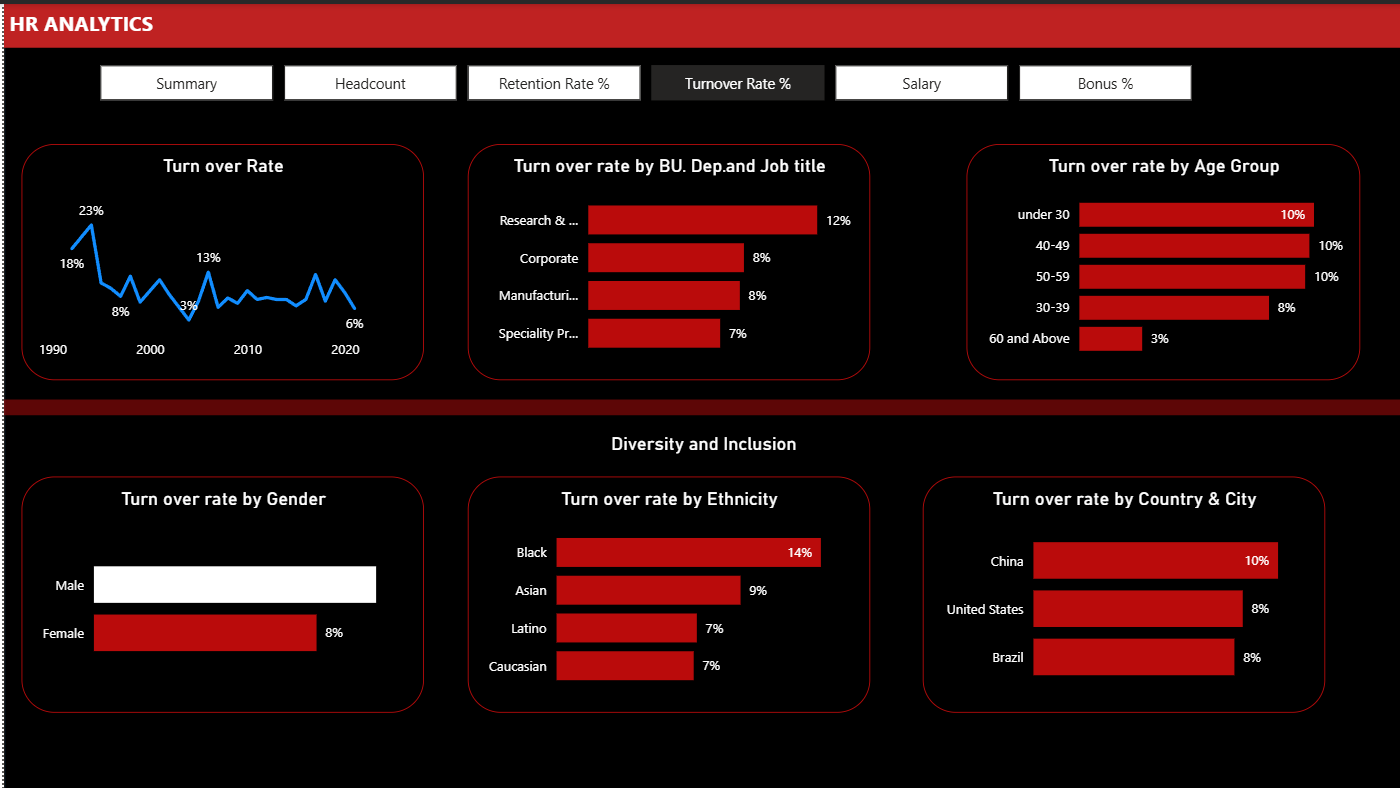

The page's visual inventory and layout, read from the dashboard file:
{"tool":"powerbi","page":{"name":"Turnover Rate %","canvas":[1280,720],"ordinal":3},"visuals":[{"type":"shape","box":[0,0,1280,720],"z":0},{"type":"shape","box":[0,0,1280,40],"z":1000},{"type":"textbox","box":[0,0,312,40],"z":2000},{"type":"clusteredBarChart","title":"Turn over rate by BU. Dep.and Job title","fields":{"Category":["TBL_Employees.Business Unit","TBL_Employees.Department","TBL_Employees.Job Title"],"Y":["TBL_Employees.Turnover Rate"]},"box":[424,128,368,216],"z":3000},{"type":"actionButton","box":[0,360,1280,16],"z":4000},{"type":"shape","title":"Diversity and Inclusion","box":[544,392,192,24],"z":5000},{"type":"clusteredBarChart","title":"Turn over rate by Age Group","fields":{"Category":["TBL_Employees.Age Band"],"Y":["TBL_Employees.Turnover Rate"]},"box":[880,128,360,216],"z":6000},{"type":"lineChart","title":"Turn over Rate","fields":{"Y":["TBL_Employees.Turnover Rate"],"Category":["Date.Year"]},"box":[16,128,368,216],"z":7000},{"type":"clusteredBarChart","title":"Turn over rate by Ethnicity","fields":{"Category":["TBL_Employees.Ethnicity"],"Y":["TBL_Employees.Turnover Rate"]},"box":[424,432,368,216],"z":8000},{"type":"clusteredBarChart","title":"Turn over rate by Country & City","fields":{"Category":["TBL_Employees.Country","TBL_Employees.City"],"Y":["TBL_Employees.Turnover Rate"]},"box":[840,432,368,216],"z":9000},{"type":"barChart","title":"Turn over rate by Gender","fields":{"Category":["TBL_Employees.Gender"],"Y":["TBL_Employees.Turnover Rate"]},"box":[16,432,368,216],"z":10000},{"type":"pageNavigator","box":[88,56,1000,32],"z":11000}]}

Visuals, with their boxes in screenshot pixels (x1, y1, x2, y2), scaled from the page's 1280x720 canvas onto the 1400x788 screenshot:
shape: x1=0, y1=0, x2=1399, y2=787
shape: x1=0, y1=0, x2=1399, y2=44
textbox: x1=0, y1=0, x2=341, y2=44
"Turn over rate by BU. Dep.and Job title" clusteredBarChart: x1=464, y1=140, x2=866, y2=376
actionButton: x1=0, y1=394, x2=1399, y2=412
"Diversity and Inclusion" shape: x1=595, y1=429, x2=805, y2=455
"Turn over rate by Age Group" clusteredBarChart: x1=962, y1=140, x2=1356, y2=376
"Turn over Rate" lineChart: x1=18, y1=140, x2=420, y2=376
"Turn over rate by Ethnicity" clusteredBarChart: x1=464, y1=473, x2=866, y2=709
"Turn over rate by Country & City" clusteredBarChart: x1=919, y1=473, x2=1321, y2=709
"Turn over rate by Gender" barChart: x1=18, y1=473, x2=420, y2=709
pageNavigator: x1=96, y1=61, x2=1190, y2=96
